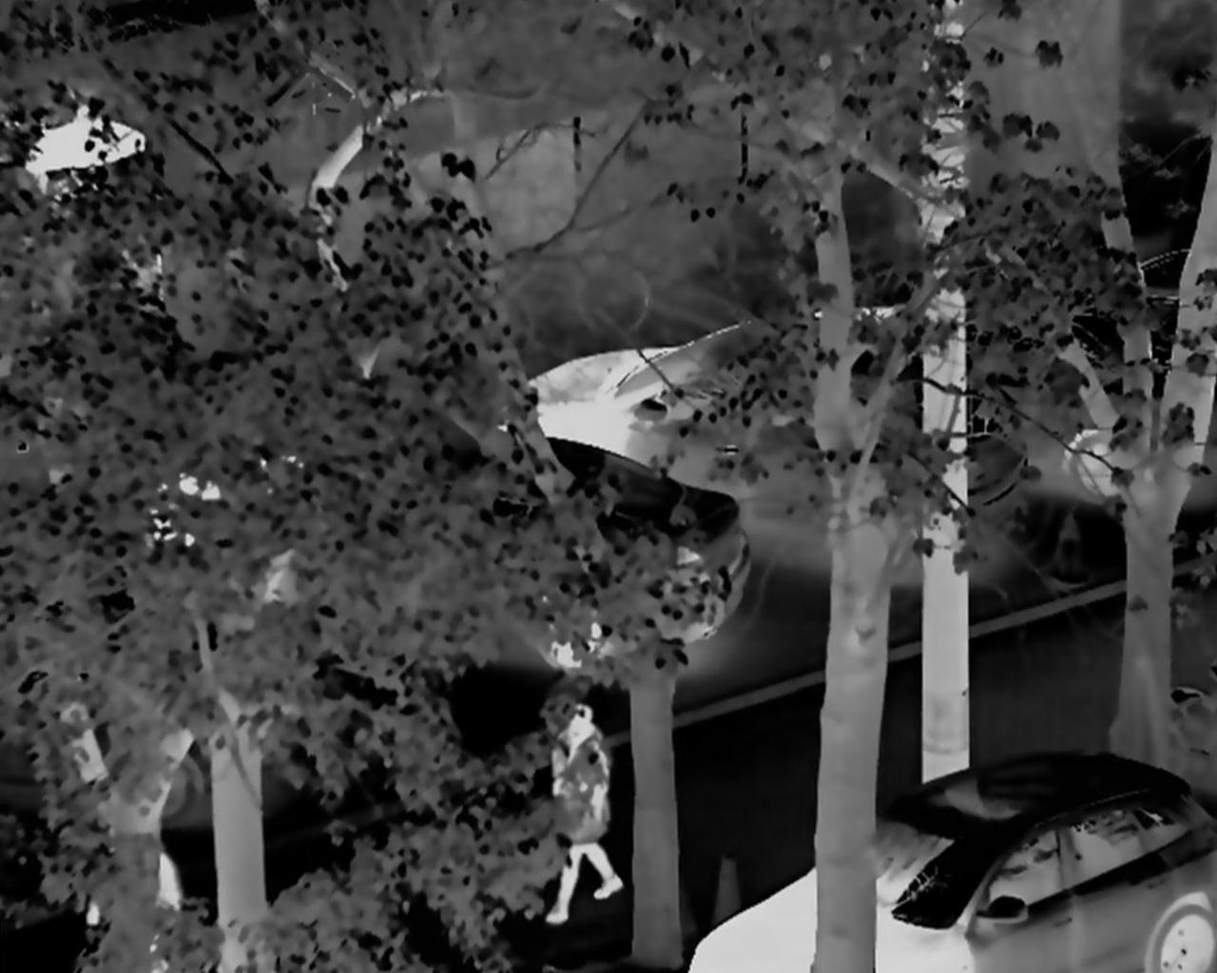person: (543, 696, 628, 931)
